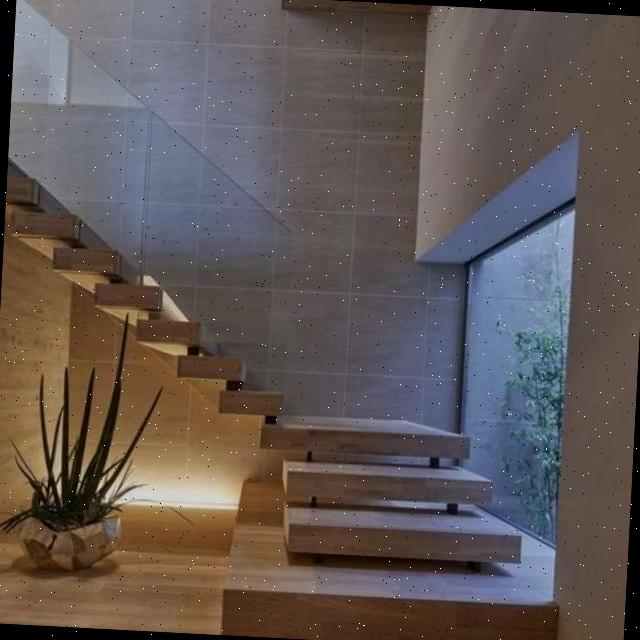stairs: (0, 154, 540, 575)
